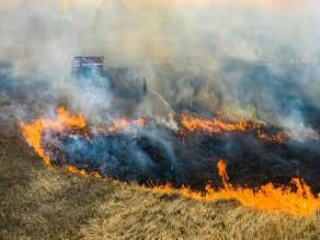fire: (144, 167, 319, 222), (15, 104, 126, 177), (180, 101, 284, 146)
smoke: (142, 18, 312, 125), (9, 16, 111, 123)
